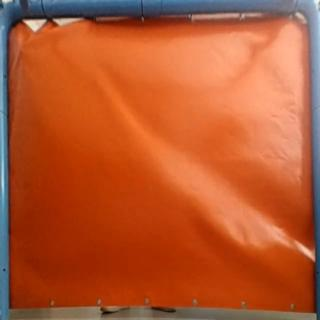Hit-hRxx: (16, 44, 27, 58)
